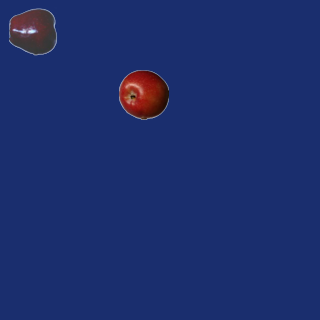Apple Braeburn: (118, 69, 168, 119)
Apple Red Delicious: (8, 6, 58, 56)
